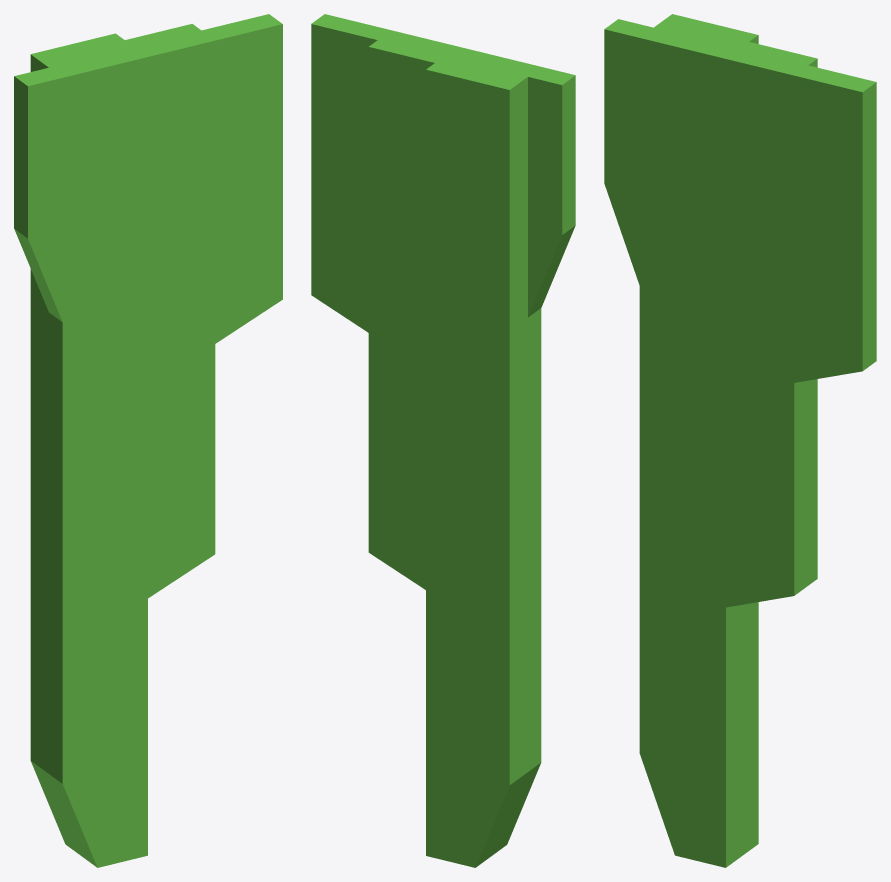
The model's file is hanging_moss.glb.
3 renders of one model, left to right at view 1: azimuth 30°, elevation 25°; view 2: azimuth 150°, elevation 25°; view 3: azimuth 330°, elevation 25°, orthographic. The views are drawn at different scales.
Visible parts, largest first — view 1: hanging_moss; view 2: hanging_moss; view 3: hanging_moss.
Part boxes in pixels (left/top/right/bottom): hanging_moss: left=14, top=14, right=282, bottom=867; hanging_moss: left=311, top=14, right=575, bottom=867; hanging_moss: left=604, top=14, right=876, bottom=867.
Size of the model in its own units: 0.1598 by 0.4785 by 0.035.
